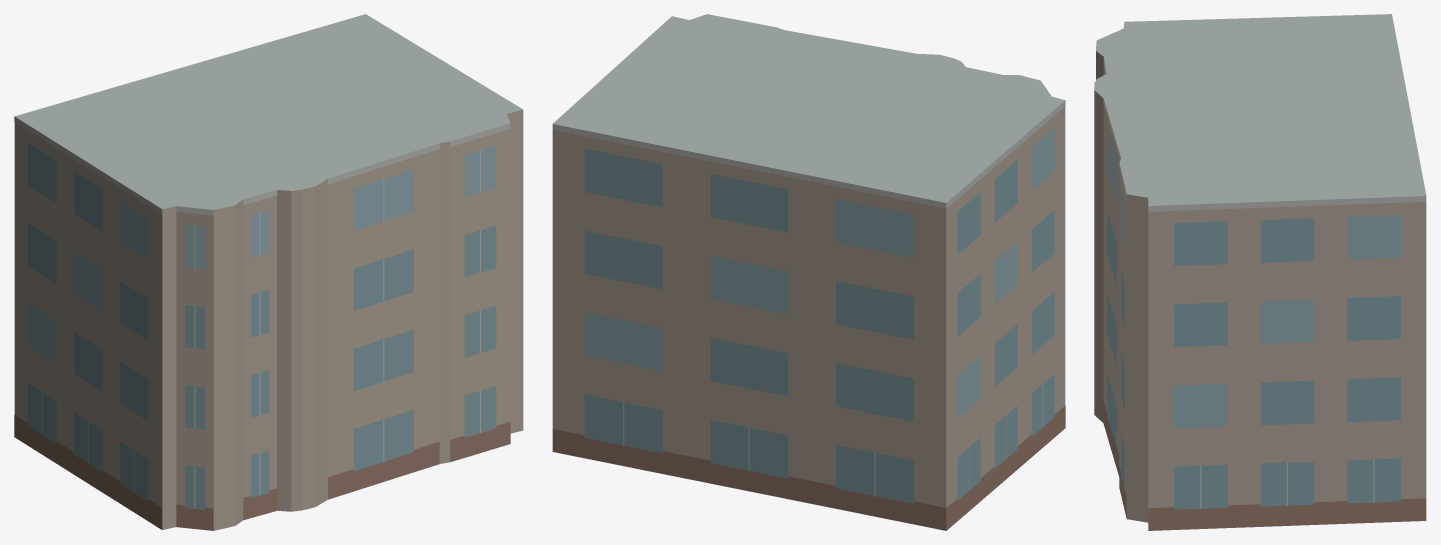
File: survey-upis-32777998.glb
The picture shows the model from 3 angles, left to right: view 1: azimuth 30°, elevation 25°; view 2: azimuth 150°, elevation 25°; view 3: azimuth 270°, elevation 25°; orthographic projection. The views are drawn at different scales.
Visible parts, largest first — view 1: survey-upis-32777998.tmp; view 2: survey-upis-32777998.tmp; view 3: survey-upis-32777998.tmp.
Boxes of the visible parts, left/top/right/bottom form: survey-upis-32777998.tmp: left=14, top=14, right=523, bottom=530; survey-upis-32777998.tmp: left=552, top=14, right=1065, bottom=530; survey-upis-32777998.tmp: left=1094, top=14, right=1426, bottom=530.
Size of the model in its own units: 17.38 by 13.7 by 12.7.
